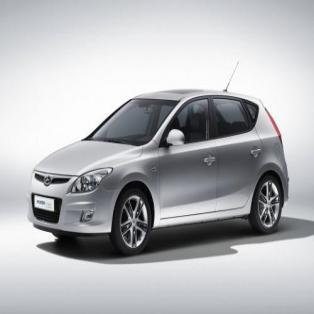Auto: (26, 62, 289, 256)
